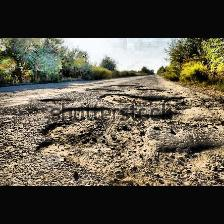pothole: (34, 106, 154, 186), (100, 93, 188, 109), (106, 84, 146, 93), (40, 98, 72, 104), (85, 88, 123, 92)
